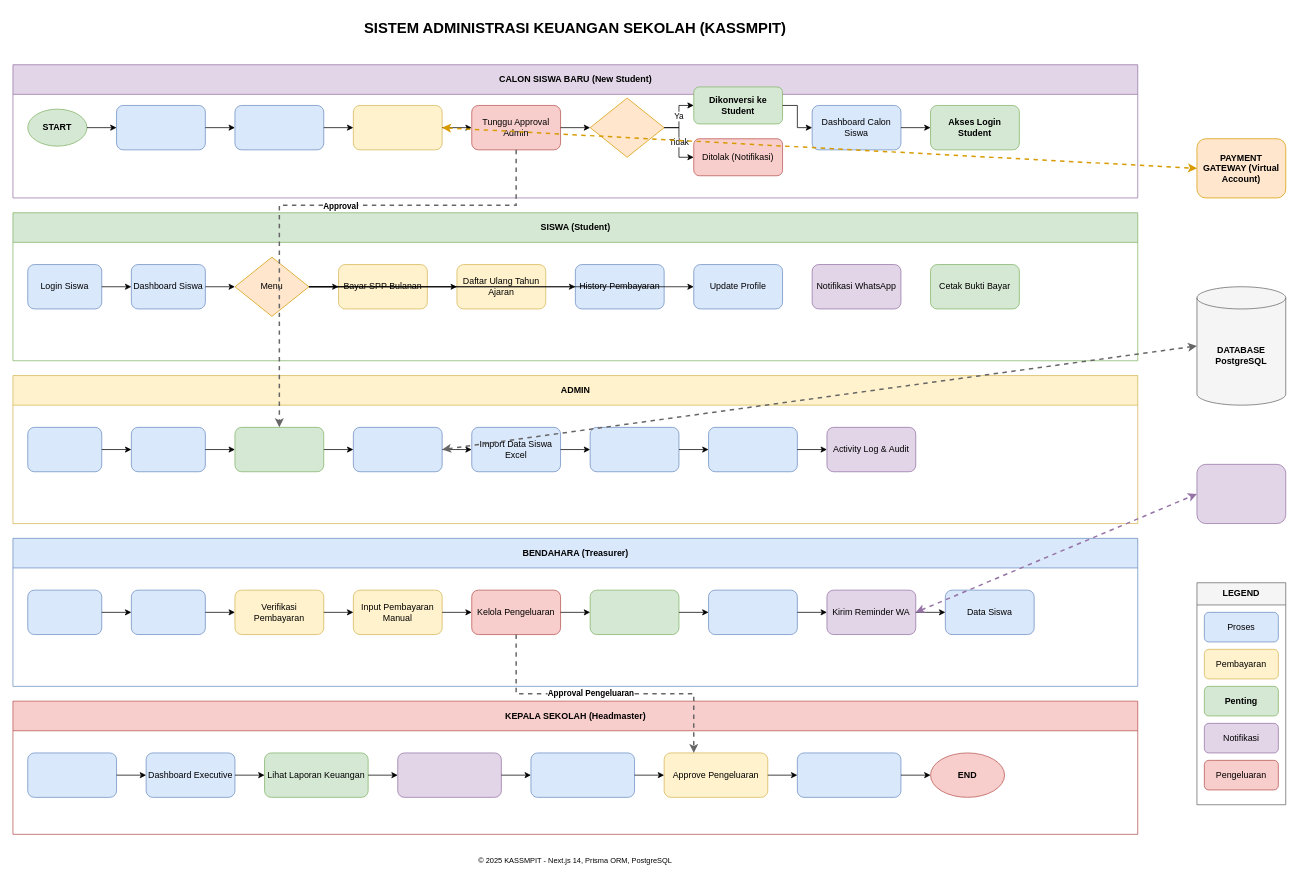
Image size: 1299x884. Some labels were removed from this diagram. Here are the shapes that lost their labels. From the top down, the centre of each, then its label:
the point at 160,127: Pendaftaran Online (Self Register)
the point at 279,127: Upload Dokumen
the point at 397,127: Bayar Biaya Pendaftaran (VA)
the point at 626,127: Disetujui?
the point at 64,449: Login Admin
the point at 168,449: Dashboard Admin
the point at 279,449: Approve/Reject Calon Siswa
the point at 397,449: Kelola Data Siswa (CRUD)
the point at 634,449: Kelola User & Role
the point at 752,449: Settings & Permissions
the point at 1241,494: WHATSAPP API (Notifikasi)
the point at 64,612: Login Bendahara
the point at 168,612: Dashboard Keuangan
the point at 634,612: Generate Laporan
the point at 752,612: History Transaksi
the point at 72,774: Login Kepala Sekolah
the point at 449,774: Analytics & Statistics
the point at 582,774: Data Siswa (Read Only)
the point at 849,774: Monitor Pendaftaran
